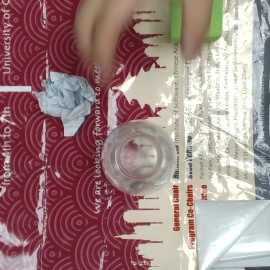bottle: (101, 122, 175, 195)
